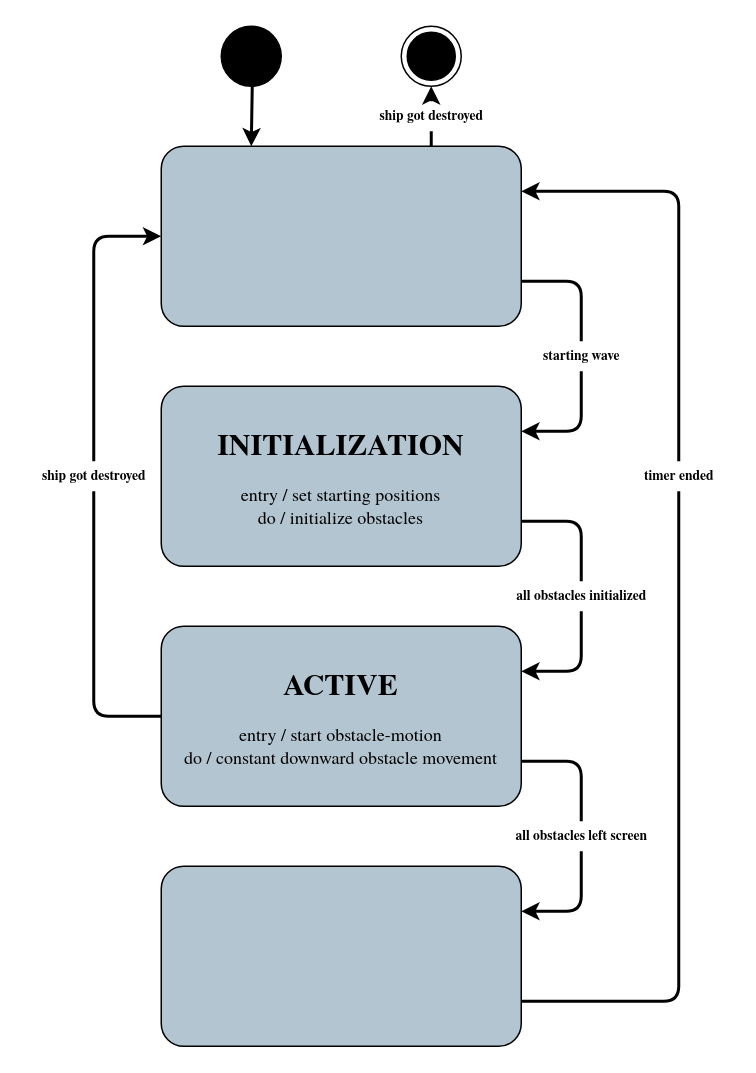
The diagram is 756 pixels wide and 1073 high, and some of its shapes have lost their labels. Each missing label, with the centre of its shape:
"COOLDOWN entry / start Timer for next wave do / waiting for Timer" goes at (x=340, y=955).
"IDLE do / check for new wave" goes at (x=340, y=235).
